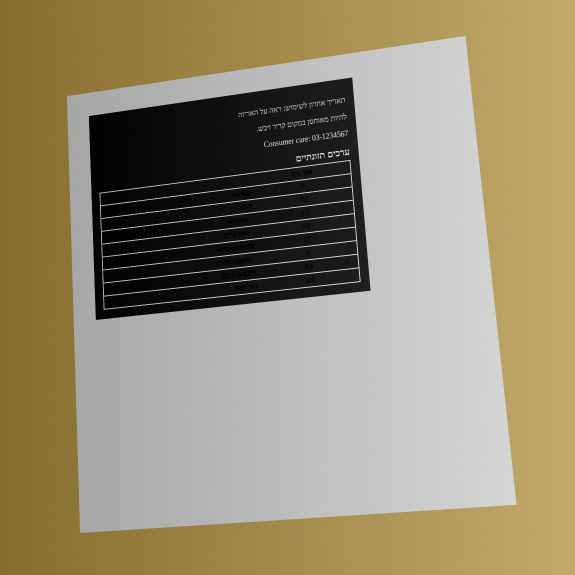carbs: (302, 234, 311, 245)
energy: (298, 181, 307, 191)
fat: (298, 194, 309, 205)
protein: (303, 261, 314, 272)
